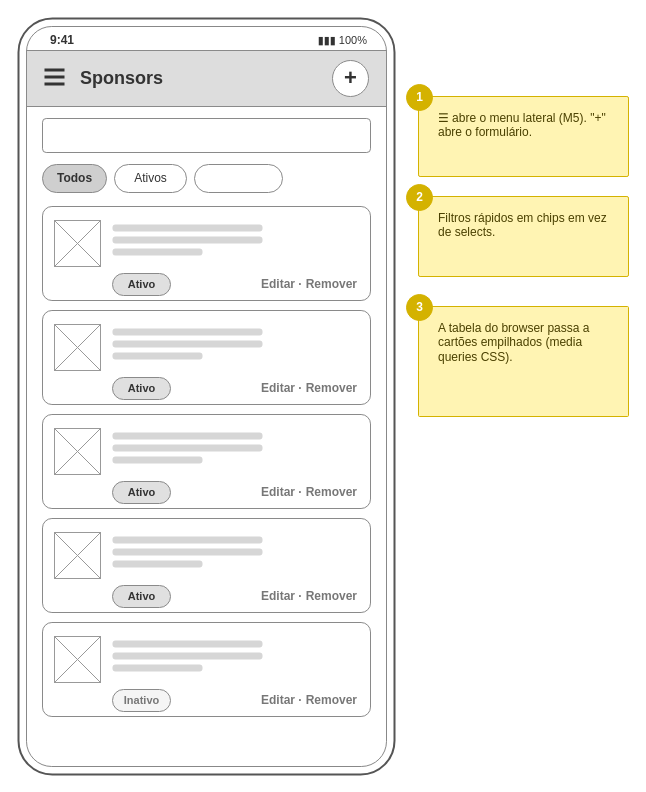
Image size: 646x792. Some labels were removed from this diagram. Each missing label, with the centre of its shape:
Inativos: point 238,178
Pesquisar…: point 206,135
